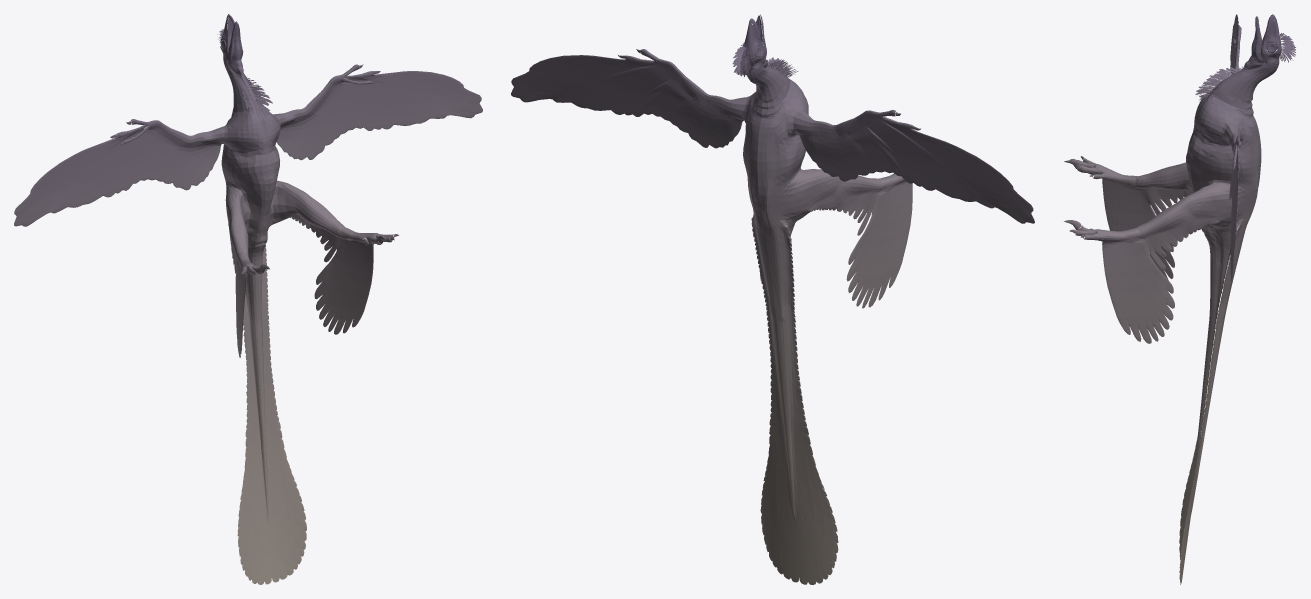
File: microraptor.glb
3 renders of one model, left to right at view 1: azimuth 30°, elevation 25°; view 2: azimuth 150°, elevation 25°; view 3: azimuth 270°, elevation 25°, orthographic. The views are drawn at different scales.
Parts seen in each view (by area): view 1: world; view 2: world; view 3: world.
Part boxes in pixels (x1,y1,x2,y2): world: (14, 14, 482, 584); world: (511, 14, 1034, 584); world: (1064, 14, 1295, 584).
Size of the model in its own units: 9.12 by 10 by 3.73.
